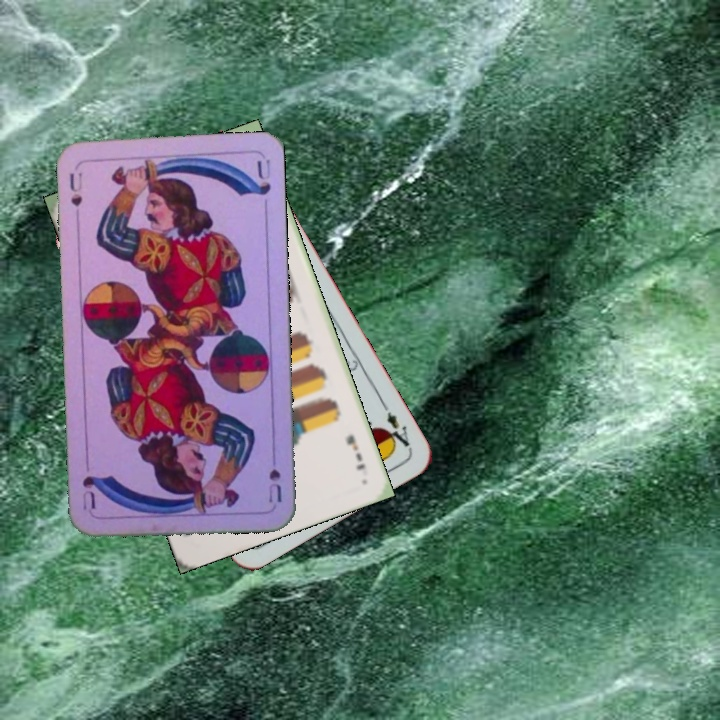E7: (342, 431, 368, 473)
EA: (377, 398, 413, 453)
SU: (264, 446, 285, 506), (65, 169, 85, 222)
